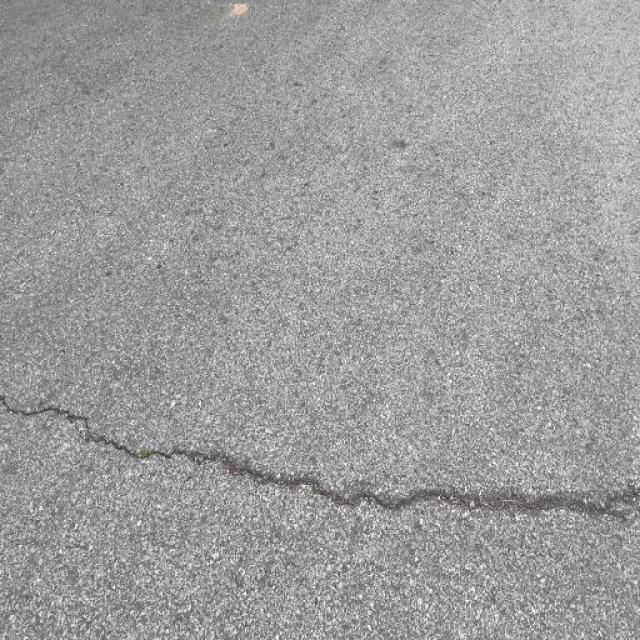Retak-Melintang: (2, 388, 640, 517)
